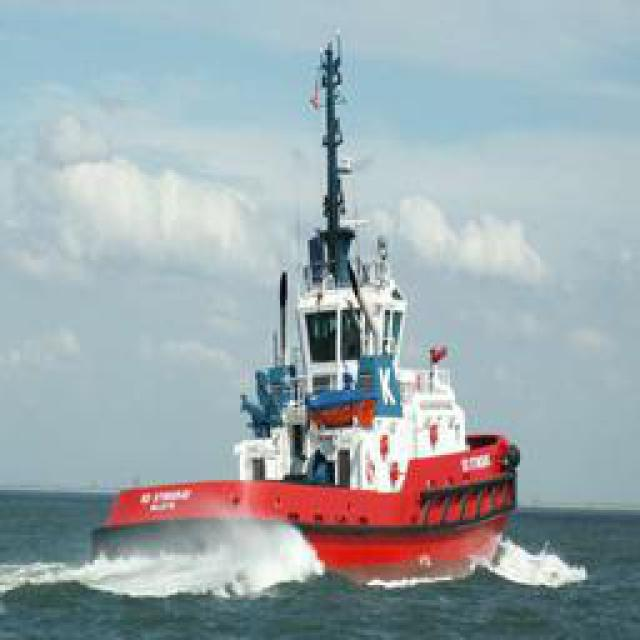Ship: (106, 66, 531, 586)
